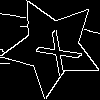X: (27, 22, 83, 78)
